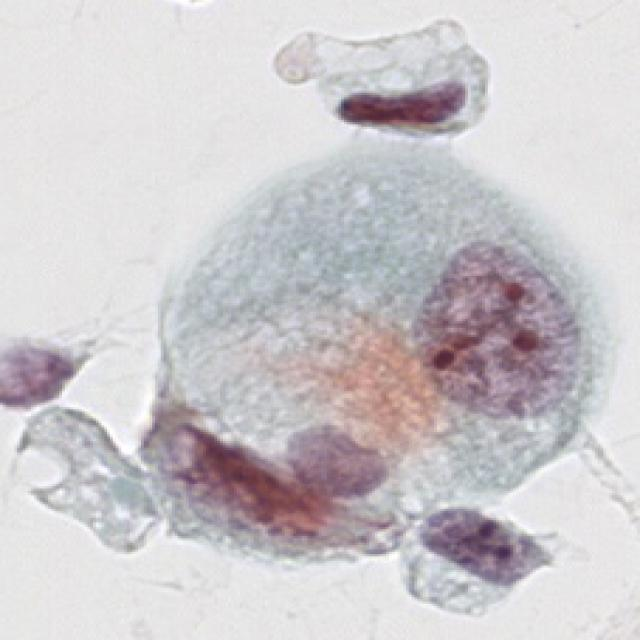cytoplasm: (384, 489, 567, 639), (318, 37, 501, 151)
nucleus: (386, 223, 614, 450), (419, 496, 546, 598), (338, 76, 474, 139)
